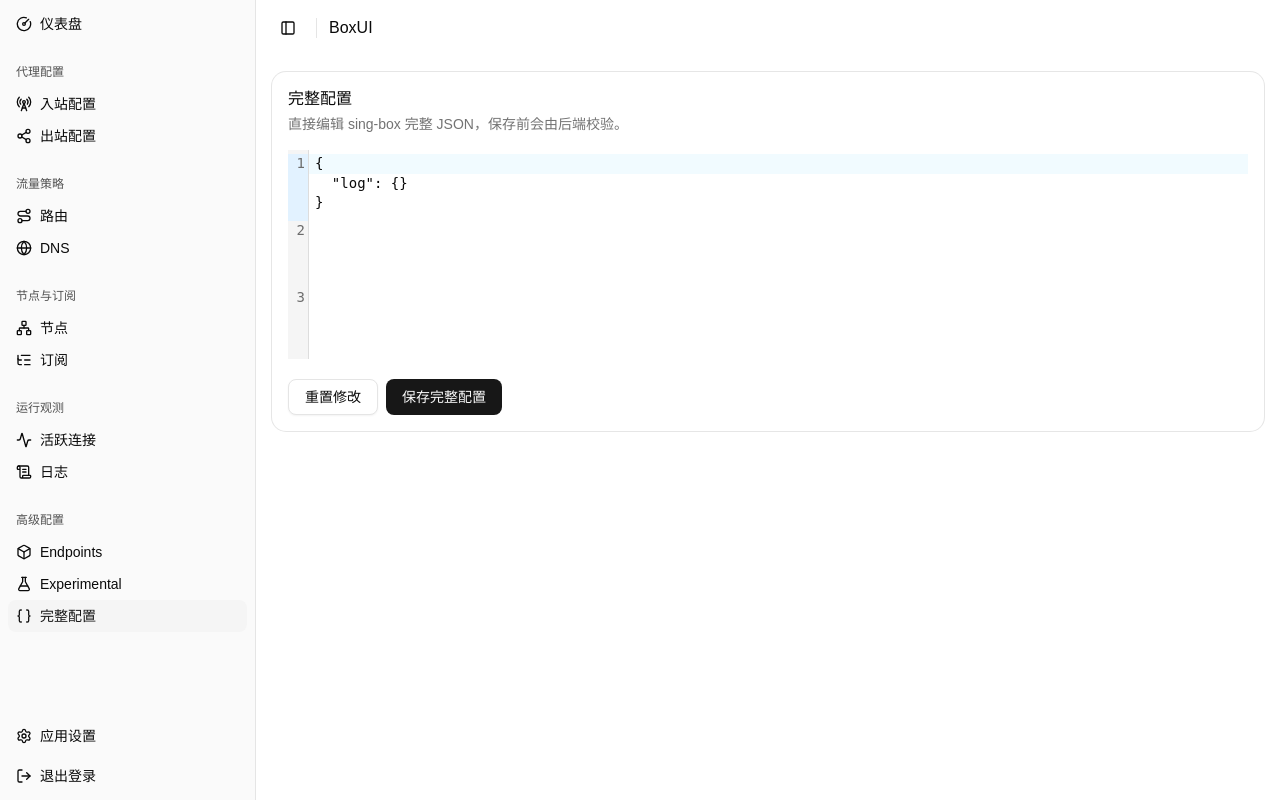
Test: advanced alternate states › reports raw configuration rollback
Click the button "保存完整配置": (444, 397) [386,379,502,415]
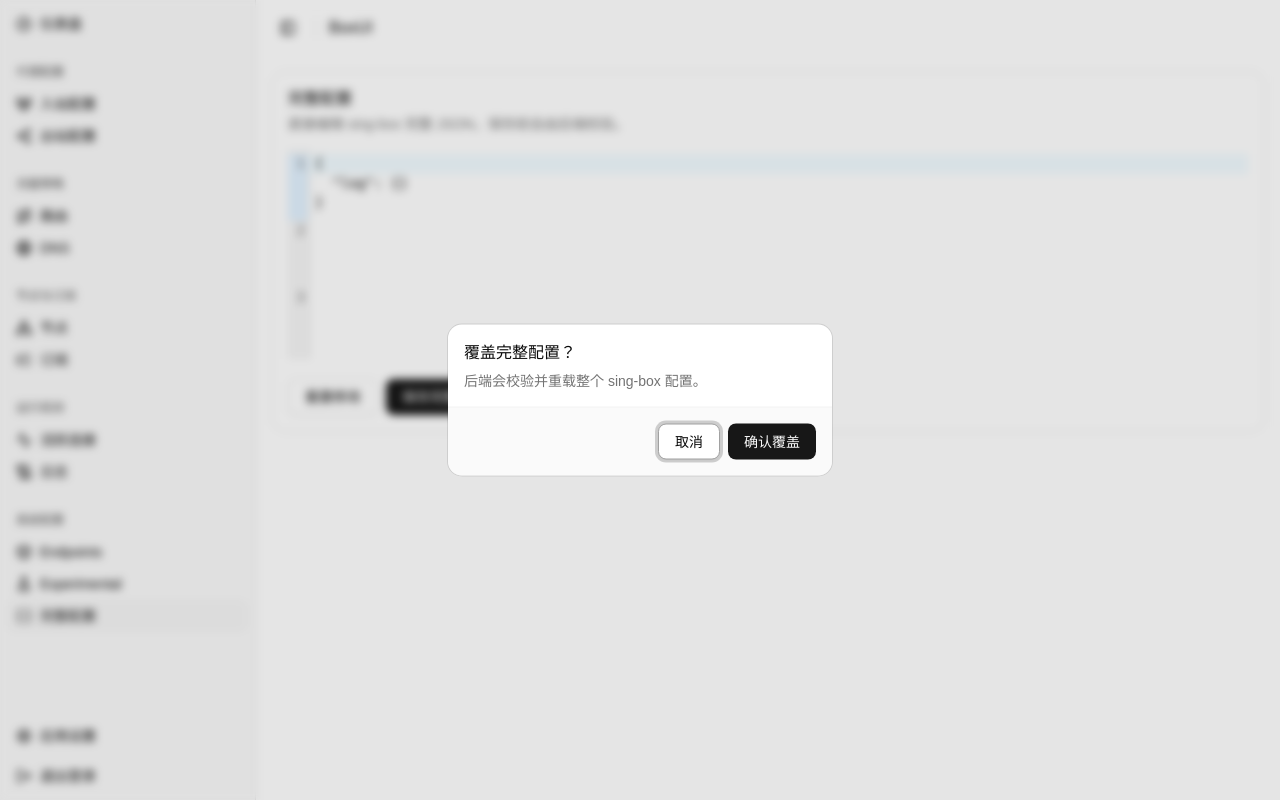
Click the button "确认覆盖": (772, 442) [728,424,816,460]
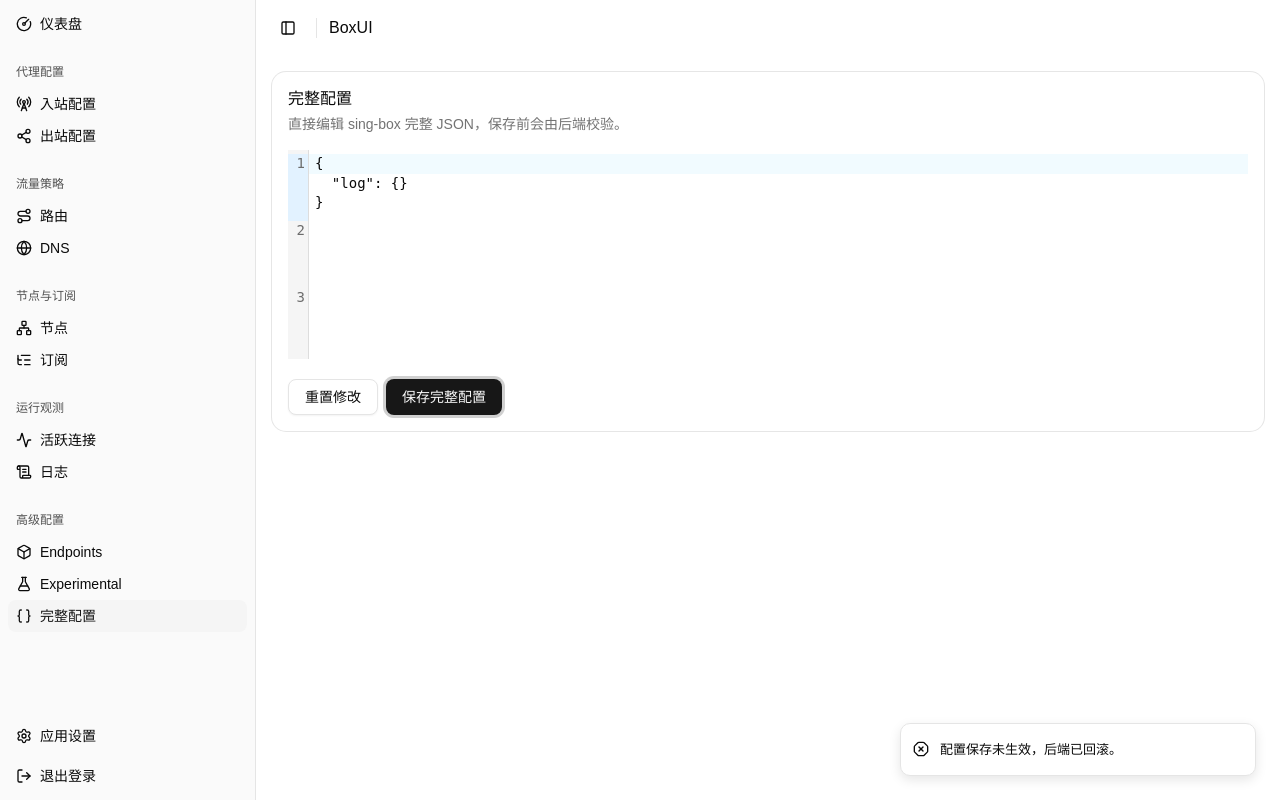
Check: the text "配置保存未生效，后端已回滚。" is shown, box [940,740,1122,759]
